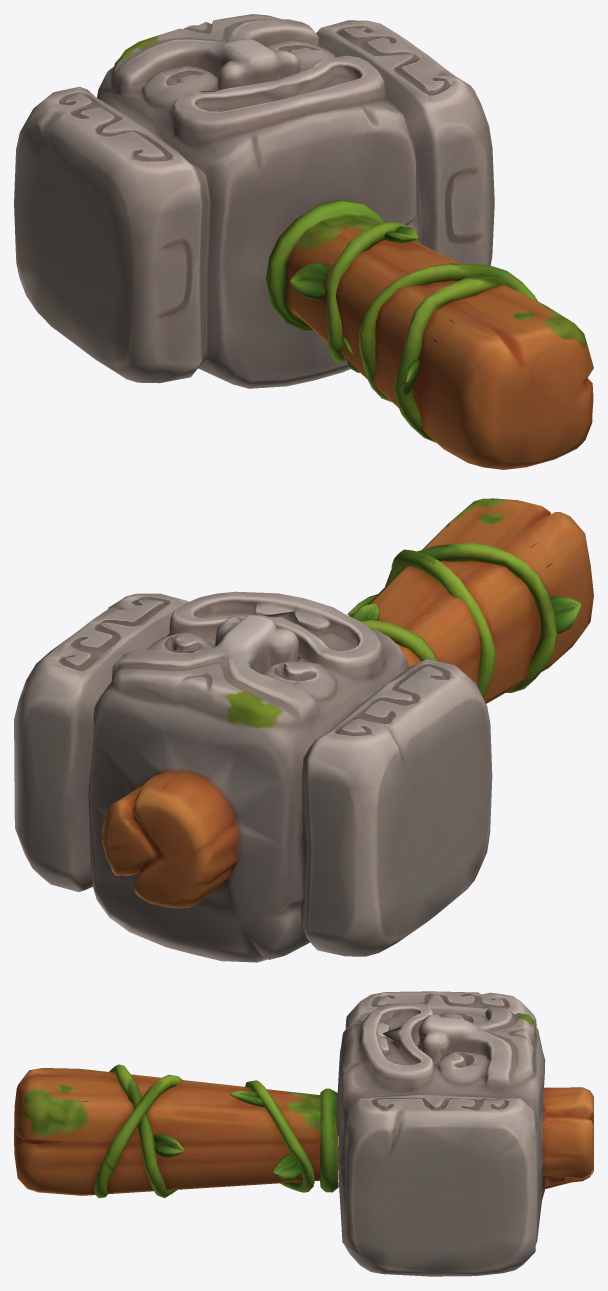
File: totem_mallet.glb
3 views of the same model, one above another, from view 1: azimuth 30°, elevation 25°; view 2: azimuth 150°, elevation 25°; view 3: azimuth 270°, elevation 25° (orthographic). The views are drawn at different scales.
Visible parts, largest first — view 1: geometry_0; view 2: geometry_0; view 3: geometry_0.
Boxes of the visible parts, x1=… form: geometry_0: x1=14, y1=14, x2=593, y2=469; geometry_0: x1=14, y1=498, x2=593, y2=962; geometry_0: x1=14, y1=991, x2=593, y2=1276.
Size of the model in its own units: 0.5161 by 0.4023 by 0.958.
1 material, 1 textured.
